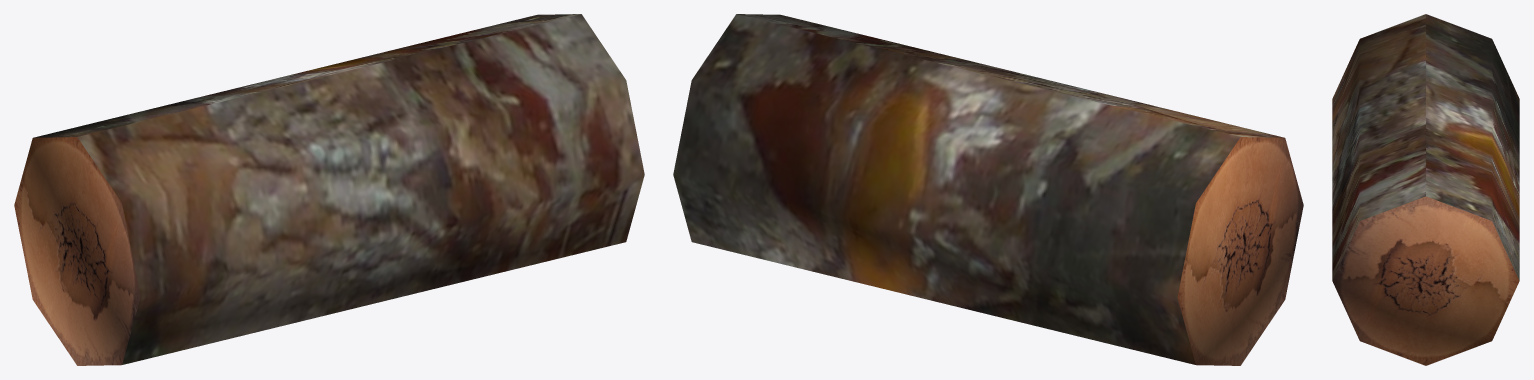
File: housebeam.glb
3 views of the same model, side by side, from view 1: azimuth 30°, elevation 25°; view 2: azimuth 150°, elevation 25°; view 3: azimuth 270°, elevation 25° (orthographic). The views are drawn at different scales.
Parts seen in each view (by area): view 1: Cylinder; view 2: Cylinder; view 3: Cylinder.
Boxes of the visible parts, x1,y1,x2,y2 form: Cylinder: (14, 14, 644, 365); Cylinder: (673, 14, 1303, 365); Cylinder: (1332, 14, 1519, 365).
Size of the model in its own units: 1.4 by 0.6093 by 0.6093.
1 material, 1 textured.
